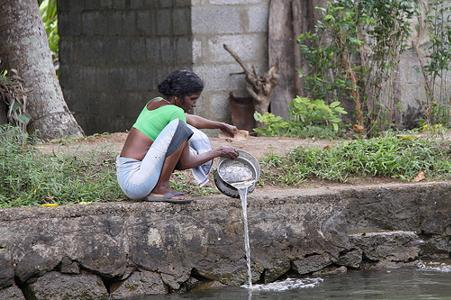person: (116, 69, 240, 205)
